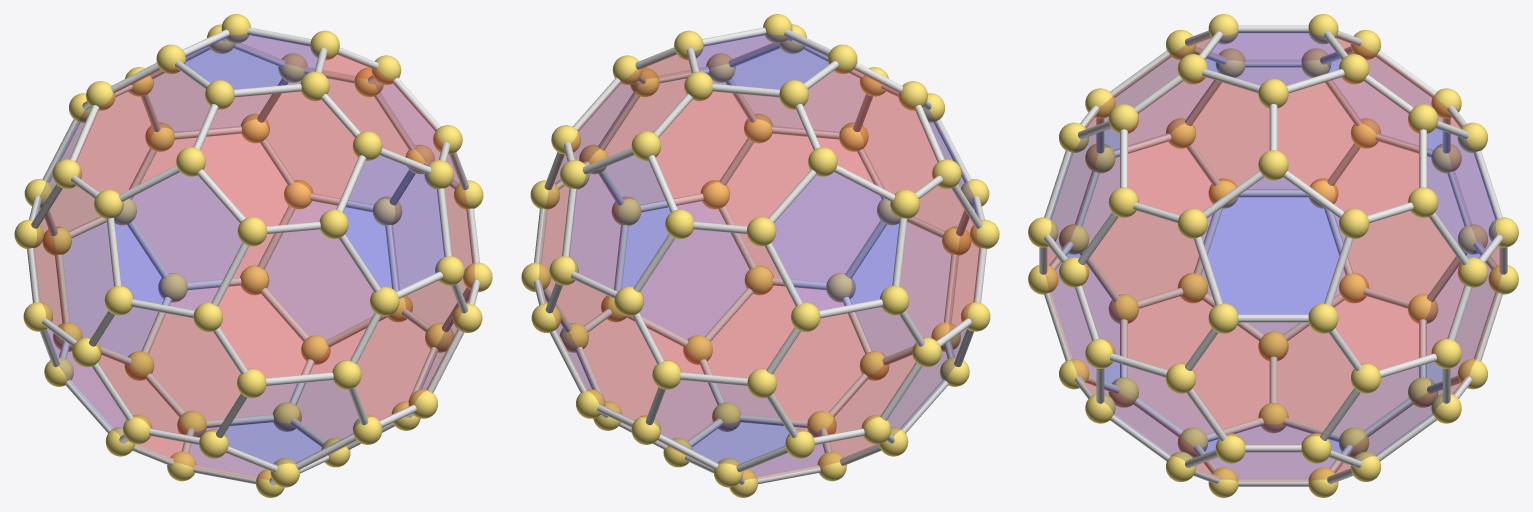
3 views of the same model, side by side, from view 1: azimuth 30°, elevation 25°; view 2: azimuth 150°, elevation 25°; view 3: azimuth 270°, elevation 25° (orthographic). The views are drawn at different scales.
Parts seen in each view (by area): view 1: Cristal.007, Cristal.015, Cristal.012, Cristal.010, Cristal.003, Cristal.026, Cristal.024, Cristal.016, Cristal.013, Cristal.025, Cristal.008, Cristal.004 (+90 smaller); view 2: Cristal.009, Cristal.017, Cristal.004, Cristal.011, Cristal.002, Cristal.027, Cristal.020, Cristal.016, Cristal.005, Cristal.028, Cristal.008, Cristal.012 (+90 smaller); view 3: Cristal.006, Cristal.005, Cristal.013, Cristal.014, Cristal.018, Cristal.029, Cristal.022, Cristal.008, Cristal.010, Cristal.011, Cristal.001, Cristal.031 (+94 smaller).
Part boxes in pixels (x1=…): Cristal.007: x1=219, y1=230, x2=374, y2=377; Cristal.015: x1=201, y1=91, x2=358, y2=225; Cristal.012: x1=133, y1=134, x2=287, y2=281; Cristal.010: x1=96, y1=307, x2=240, y2=437; Cristal.003: x1=149, y1=285, x2=306, y2=419; Cristal.026: x1=114, y1=172, x2=241, y2=310; Cristal.024: x1=265, y1=201, x2=391, y2=339; Cristal.016: x1=76, y1=68, x2=210, y2=193; Cristal.013: x1=265, y1=79, x2=408, y2=204; Cristal.025: x1=343, y1=155, x2=444, y2=291; Cristal.008: x1=33, y1=184, x2=113, y2=340; Cristal.004: x1=356, y1=280, x2=461, y2=420; Cristal.009: x1=639, y1=230, x2=794, y2=377; Cristal.017: x1=655, y1=91, x2=812, y2=225; Cristal.004: x1=726, y1=134, x2=880, y2=281; Cristal.011: x1=773, y1=307, x2=917, y2=437; Cristal.002: x1=707, y1=285, x2=864, y2=419; Cristal.027: x1=772, y1=172, x2=899, y2=310; Cristal.020: x1=622, y1=201, x2=748, y2=339; Cristal.016: x1=803, y1=68, x2=937, y2=193; Cristal.005: x1=605, y1=79, x2=748, y2=204; Cristal.028: x1=569, y1=155, x2=670, y2=291; Cristal.008: x1=900, y1=184, x2=980, y2=340; Cristal.012: x1=552, y1=280, x2=657, y2=420; Cristal.006: x1=1192, y1=323, x2=1354, y2=444; Cristal.005: x1=1082, y1=210, x2=1214, y2=369; Cristal.013: x1=1332, y1=210, x2=1464, y2=369; Cristal.014: x1=1128, y1=76, x2=1269, y2=214; Cristal.018: x1=1277, y1=76, x2=1418, y2=214; Cristal.029: x1=1202, y1=178, x2=1344, y2=314; Cristal.022: x1=1202, y1=198, x2=1344, y2=333; Cristal.008: x1=1193, y1=68, x2=1353, y2=189; Cristal.010: x1=1083, y1=142, x2=1212, y2=300; Cristal.011: x1=1334, y1=142, x2=1463, y2=300; Cristal.001: x1=1278, y1=295, x2=1418, y2=433; Cristal.031: x1=1128, y1=295, x2=1268, y2=433.
Size of the model in its own units: 4.12 by 3.99 by 4.19.
